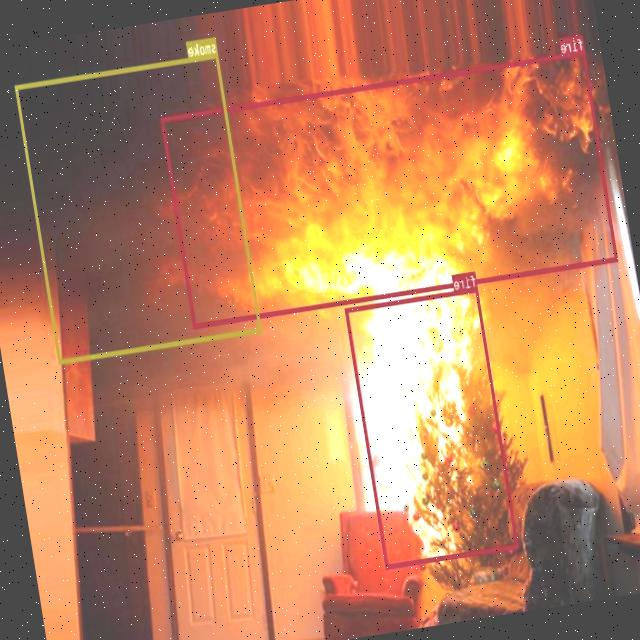fire: (161, 50, 619, 328), (345, 286, 520, 568)
smoke: (15, 52, 263, 363)
